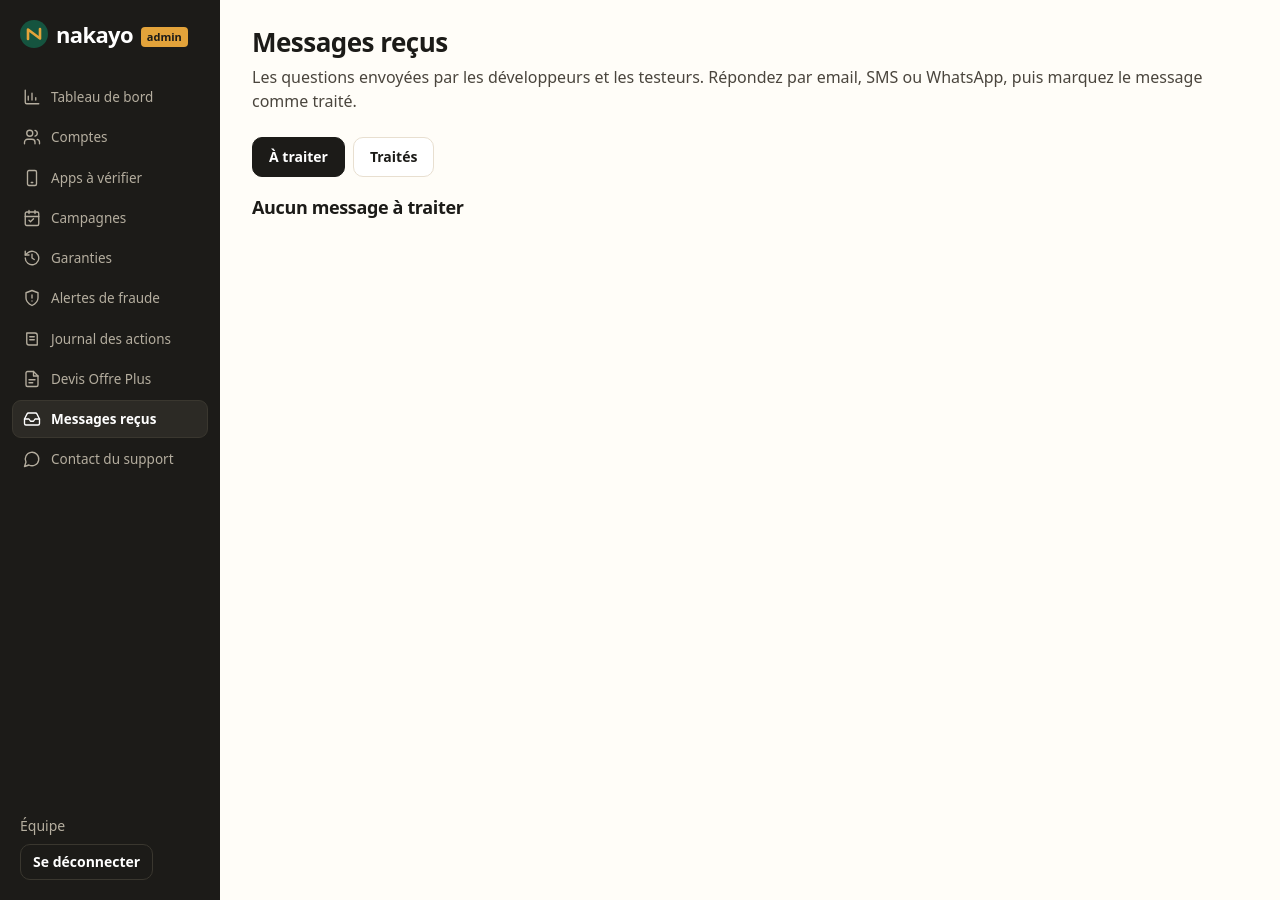
Back-office : messages reçus (US-40) › onglet des messages traités
Expected: the heading "Aucun message à traiter" is shown, left=252, top=195, right=464, bottom=219
Step 1. Click the button "Traités" → (394, 157), box left=353, top=137, right=434, bottom=177
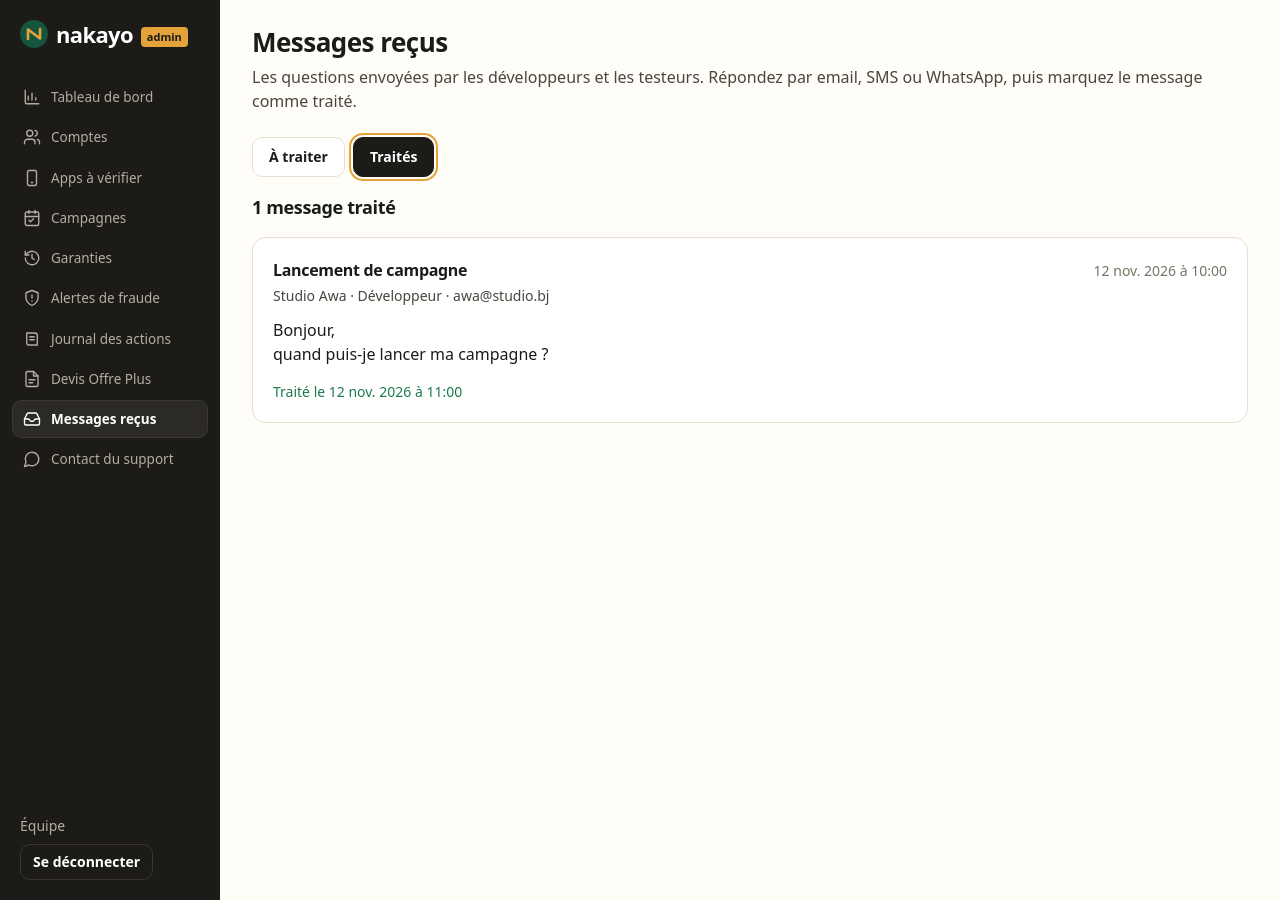
Expected: the heading "1 message traité" is shown, left=252, top=195, right=396, bottom=219
Expected: the text "Traité le 12 nov. 2026 à 11:00" is shown, left=273, top=382, right=462, bottom=401
